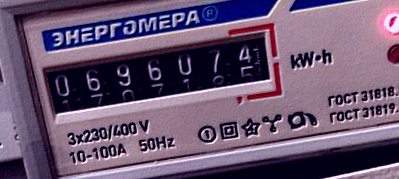0: (49, 72, 72, 99), (174, 50, 194, 78)
4: (234, 40, 254, 66)
5: (238, 63, 256, 84)
6: (82, 65, 104, 94), (143, 57, 163, 83)
7: (203, 46, 225, 75)
9: (111, 61, 134, 89)
screen: (28, 17, 289, 136)
